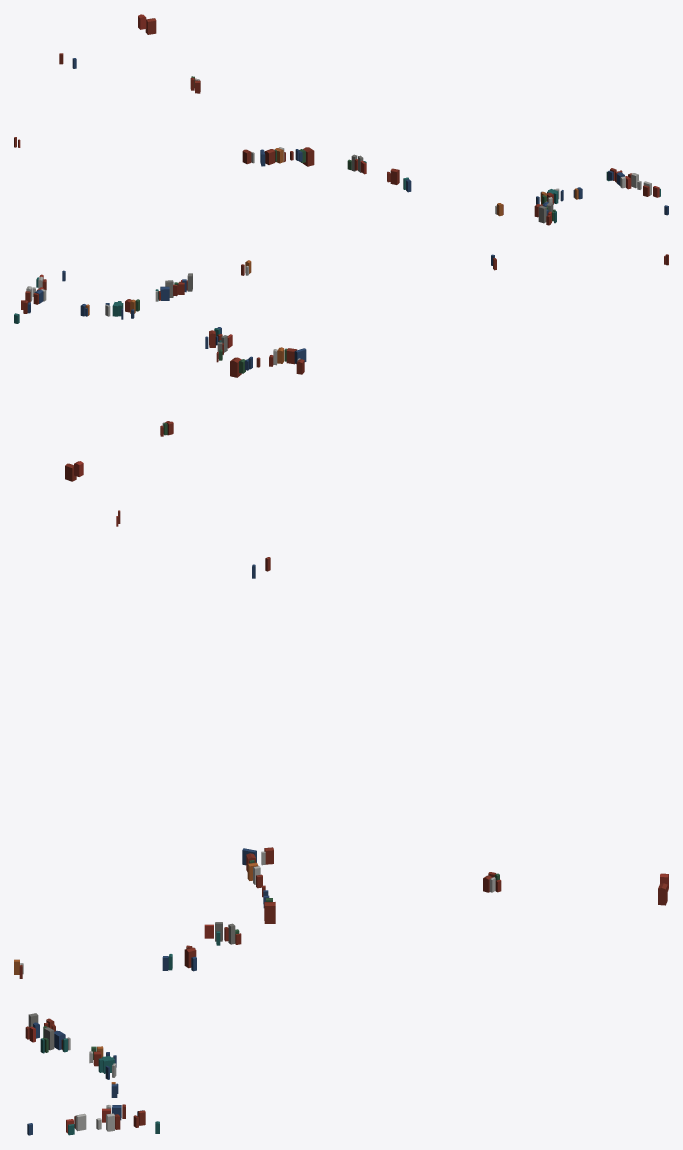
File: near-15-27371-14869.9d3d13fb.glb
The picture shows the model from 3 angles, top to bottom: view 1: azimuth 30°, elevation 25°; view 2: azimuth 150°, elevation 25°; view 3: azimuth 270°, elevation 25°; orthographic projection. The views are drawn at different scales.
Bounding box in the file's own units: 1101 × 365 × 802.
